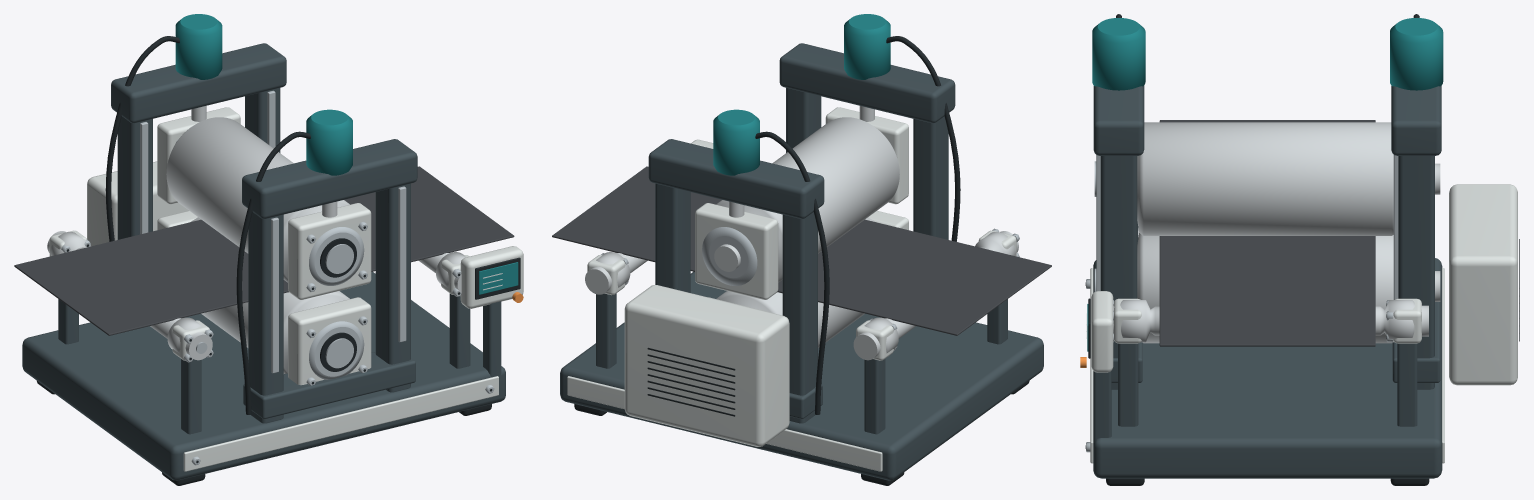
The model's file is calender.glb.
3 renders of one model, left to right at view 1: azimuth 30°, elevation 25°; view 2: azimuth 150°, elevation 25°; view 3: azimuth 270°, elevation 25°, orthographic. The views are drawn at different scales.
Visible parts, largest first — view 1: Welded machine bed, Electrode through nip, Upper precision roll, Loading bridge, Loading bridge.001, Removable fascia.001, Portal column.003, Portal column.002, Bearing guide bed.001, Split bearing chock.003, Split bearing chock.002, Portal column (+24 smaller); view 2: Welded machine bed, Electrode through nip, Drive cabinet, Upper precision roll, Loading bridge, Loading bridge.001, Portal column, Split bearing chock.001, Portal column.002, Portal column.001, Removable fascia, Hydraulic loading ram (+15 smaller); view 3: Welded machine bed, Upper precision roll, Electrode through nip, Drive cabinet, Portal column.001, Portal column.003, Hydraulic loading ram.001, Hydraulic loading ram, Loading bridge.001, Loading bridge, Lower precision roll, Web guide roll.001 (+11 smaller).
Boxes of the visible parts, <box> form: Welded machine bed: <box>22,271,505,480</box>; Electrode through nip: <box>14,166,514,335</box>; Upper precision roll: <box>166,117,349,282</box>; Loading bridge: <box>111,43,286,123</box>; Loading bridge.001: <box>242,139,417,218</box>; Removable fascia.001: <box>183,376,498,471</box>; Portal column.003: <box>375,183,410,392</box>; Portal column.002: <box>248,212,283,423</box>; Bearing guide bed.001: <box>243,352,415,418</box>; Split bearing chock.003: <box>288,203,371,299</box>; Split bearing chock.002: <box>288,297,371,385</box>; Portal column: <box>117,116,152,239</box>; Welded machine bed: <box>560,271,1043,480</box>; Electrode through nip: <box>552,166,1051,335</box>; Drive cabinet: <box>624,285,789,446</box>; Upper precision roll: <box>714,117,899,282</box>; Loading bridge: <box>648,139,824,218</box>; Loading bridge.001: <box>779,43,955,123</box>; Portal column: <box>782,212,817,423</box>; Split bearing chock.001: <box>695,203,778,299</box>; Portal column.002: <box>913,116,948,239</box>; Portal column.001: <box>655,183,690,292</box>; Removable fascia: <box>567,376,882,471</box>; Hydraulic loading ram: <box>713,109,759,175</box>; Welded machine bed: <box>1093,258,1442,478</box>; Upper precision roll: <box>1137,122,1440,235</box>; Electrode through nip: <box>1159,120,1375,346</box>; Drive cabinet: <box>1449,184,1517,385</box>; Portal column.001: <box>1398,156,1434,389</box>; Portal column.003: <box>1100,156,1137,389</box>; Hydraulic loading ram.001: <box>1092,18,1145,90</box>; Hydraulic loading ram: <box>1390,18,1443,90</box>; Loading bridge.001: <box>1093,85,1144,155</box>; Loading bridge: <box>1391,86,1441,155</box>; Lower precision roll: <box>1137,233,1440,343</box>; Web guide roll.001: <box>1113,300,1428,342</box>.
Size of the model in its own units: 5.8 by 4.48 by 4.78.
